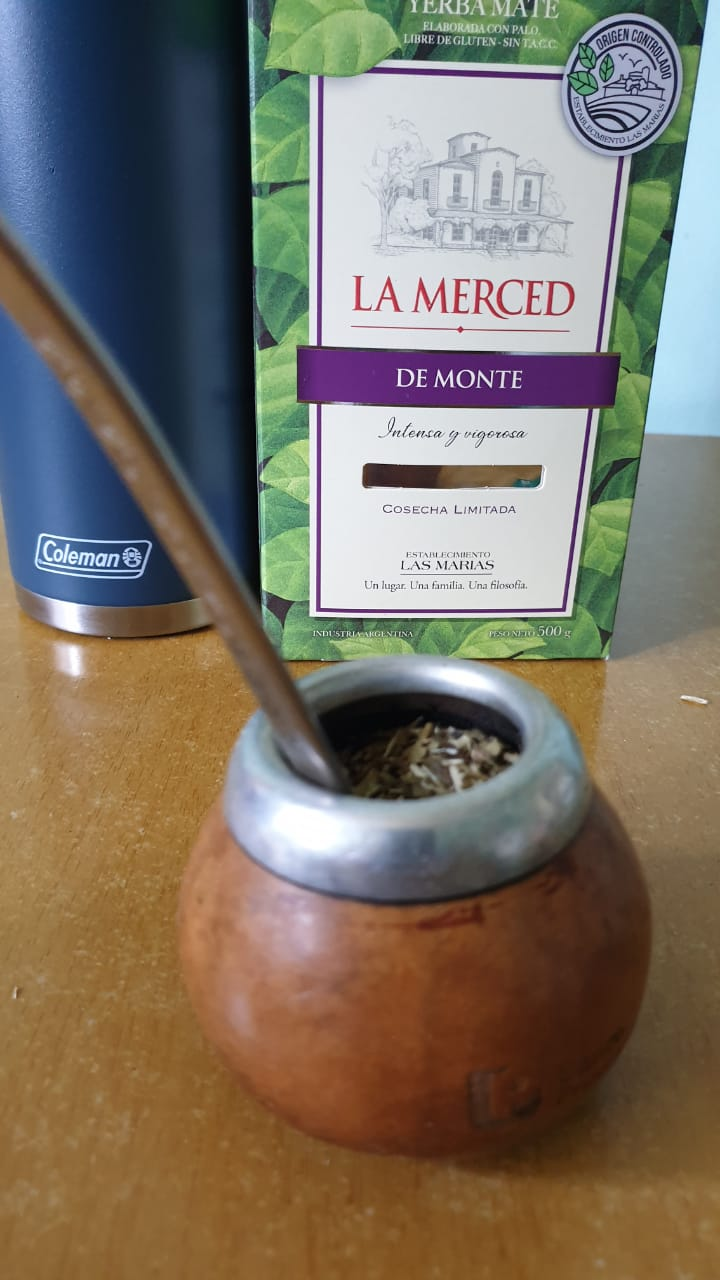calabaza: (174, 636, 668, 1157)
mate: (164, 617, 668, 1209)
